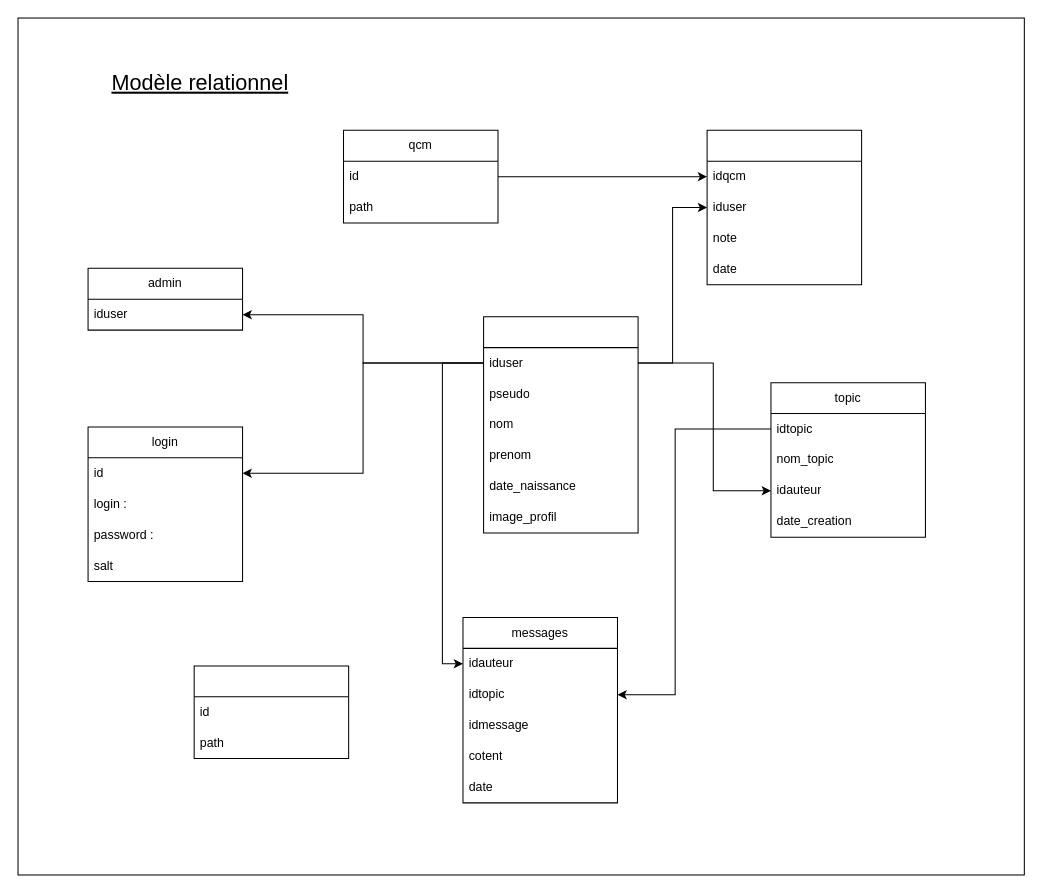
Some shapes in this 1042 by 893 pixel diagram are drawn without their labels. The shapes that lost their labels are listed below. From the top down, each one's box as (x1, y1, x2, y2) in pixels, then its label:
(706, 129, 862, 285): qcmresults
(483, 316, 638, 533): userinfo
(193, 665, 349, 759): cours
